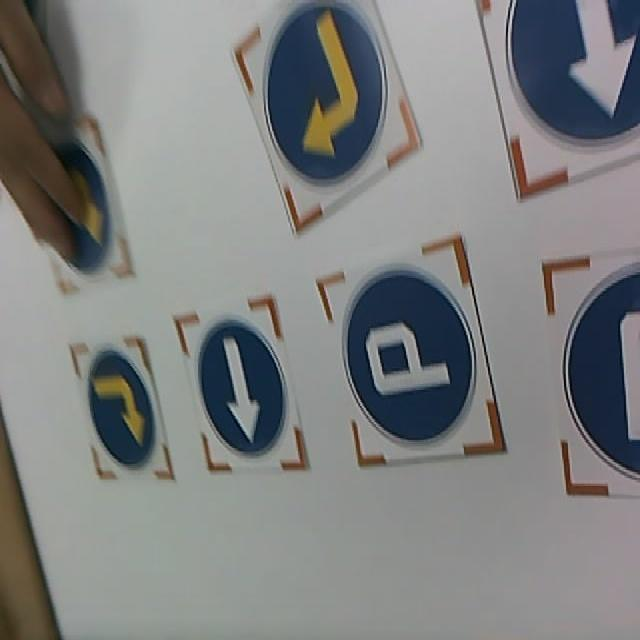parking: (348, 267, 476, 444)
straight: (505, 1, 640, 139), (195, 318, 288, 454)
turn: (268, 5, 387, 179), (91, 353, 155, 465)
